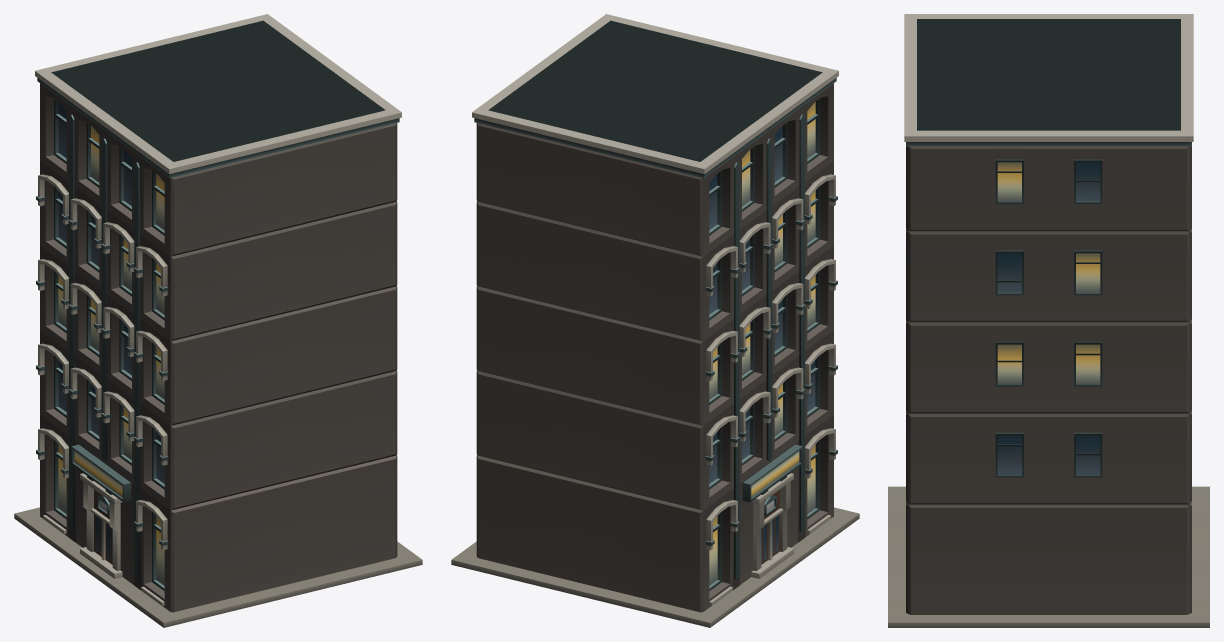
Rendered from Building_14D.fbx.
The picture shows the model from 3 angles, left to right: view 1: azimuth 30°, elevation 25°; view 2: azimuth 150°, elevation 25°; view 3: azimuth 270°, elevation 25°; orthographic projection. The views are drawn at different scales.
Visible parts, largest first — view 1: Building_14D, Window_Lights_14D; view 2: Building_14D, Window_Lights_14D; view 3: Building_14D, Window_Lights_14D.
Part boxes in pixels (<box>): Building_14D: <box>14,14,422,627</box>; Window_Lights_14D: <box>58,126,164,585</box>; Building_14D: <box>451,14,859,627</box>; Window_Lights_14D: <box>709,102,815,585</box>; Building_14D: <box>888,14,1209,627</box>; Window_Lights_14D: <box>997,162,1100,383</box>.
Size of the model in its own units: 16 by 26.62 by 16.
